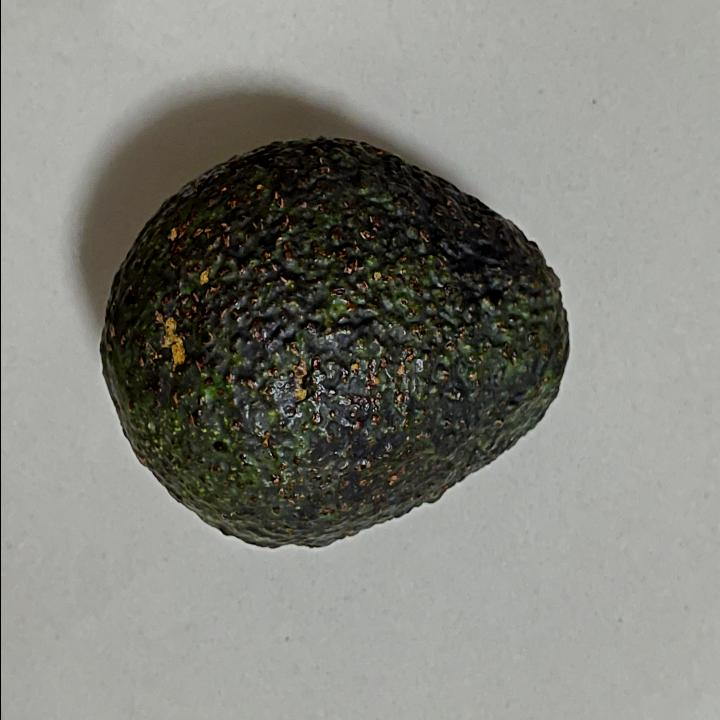Level1: (85, 129, 584, 569)
